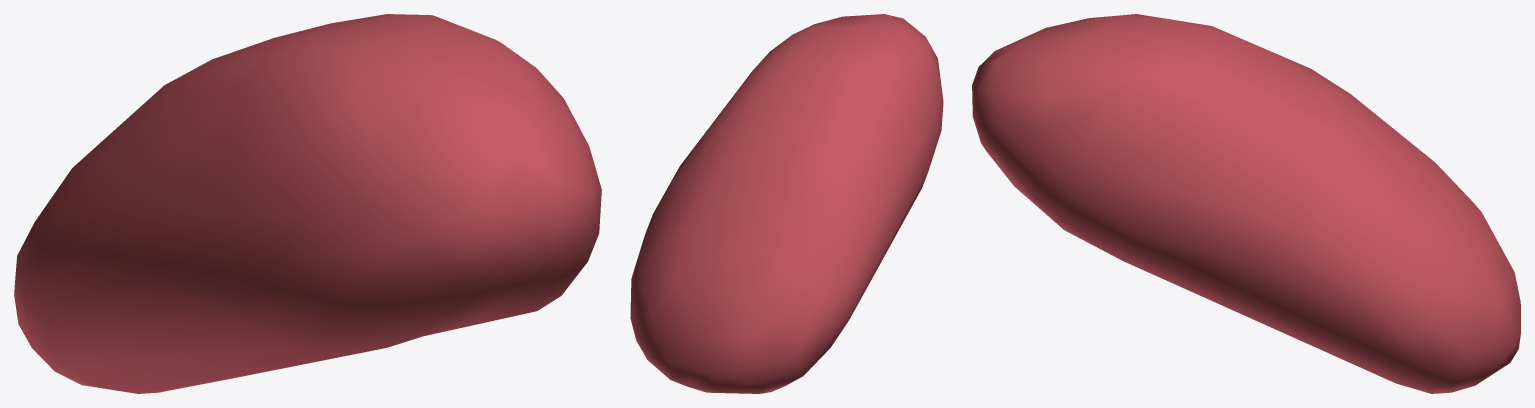
The model's file is visceras-pineal-gland.glb.
The picture shows the model from 3 angles, left to right: view 1: azimuth 30°, elevation 25°; view 2: azimuth 150°, elevation 25°; view 3: azimuth 270°, elevation 25°; orthographic projection. The views are drawn at different scales.
Visible parts, largest first — view 1: Pineal gland; view 2: Pineal gland; view 3: Pineal gland.
Boxes of the visible parts, x1,y1,x2,y2 form: Pineal gland: (14,14,601,393); Pineal gland: (630,14,943,393); Pineal gland: (972,14,1520,393).
Size of the model in its own units: 0.00635 by 0.00743 by 0.0111.
